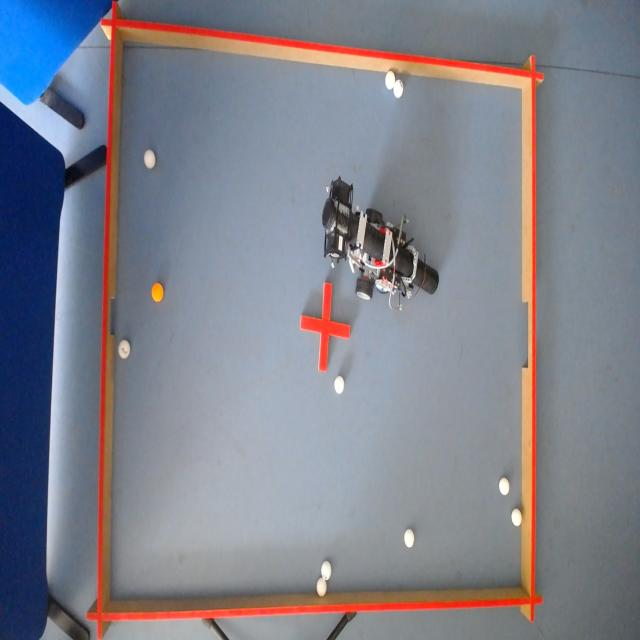orange: (151, 282, 163, 301)
robot: (322, 176, 439, 298)
robot-front: (415, 260, 439, 294)
white: (117, 338, 130, 359), (316, 577, 327, 598), (143, 148, 155, 167), (393, 77, 404, 97), (385, 69, 396, 88), (334, 375, 345, 394), (512, 508, 523, 527), (321, 561, 332, 580), (405, 529, 415, 548), (500, 478, 511, 495)
